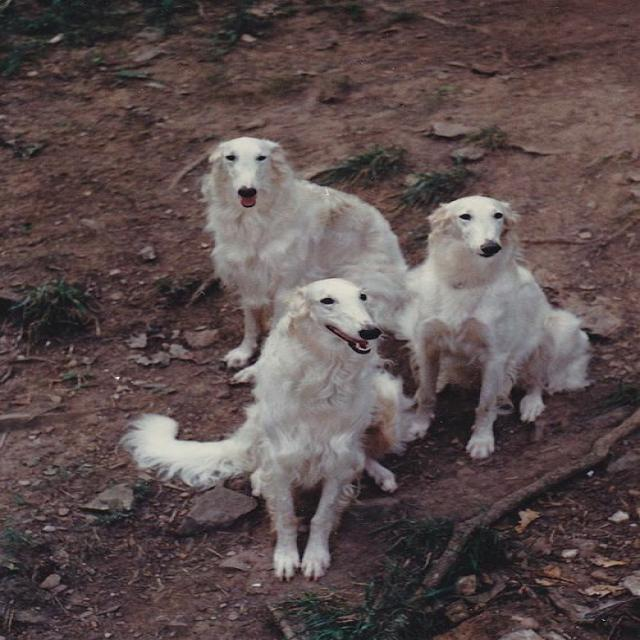Dogs: (115, 279, 428, 582), (192, 133, 450, 390), (386, 195, 602, 460)
